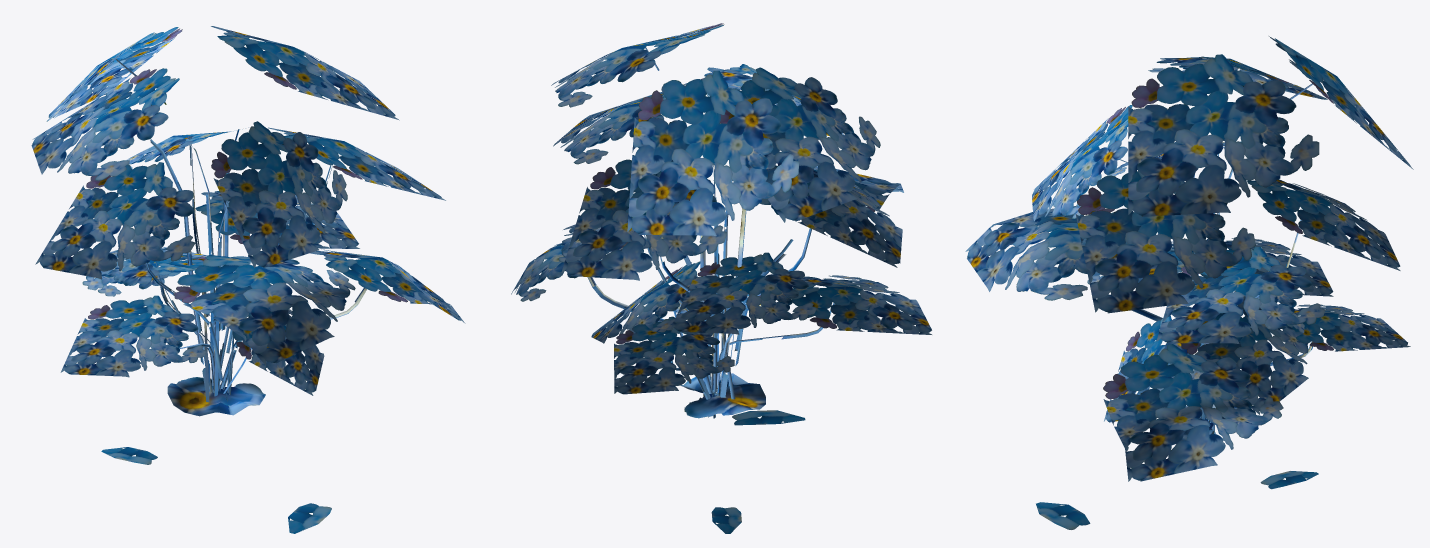
File: large floorplant 2.fbx
The picture shows the model from 3 angles, left to right: view 1: azimuth 30°, elevation 25°; view 2: azimuth 150°, elevation 25°; view 3: azimuth 270°, elevation 25°; orthographic projection. The views are drawn at different scales.
Parts seen in each view (by area): view 1: large_floor_plant_1:smaal_leaves; view 2: large_floor_plant_1:smaal_leaves; view 3: large_floor_plant_1:smaal_leaves.
Boxes of the visible parts, x1,y1,x2,y2 form: large_floor_plant_1:smaal_leaves: (31,26,465,533); large_floor_plant_1:smaal_leaves: (511,23,931,533); large_floor_plant_1:smaal_leaves: (965,36,1413,529).
Size of the model in its own units: 899 by 937 by 841.
